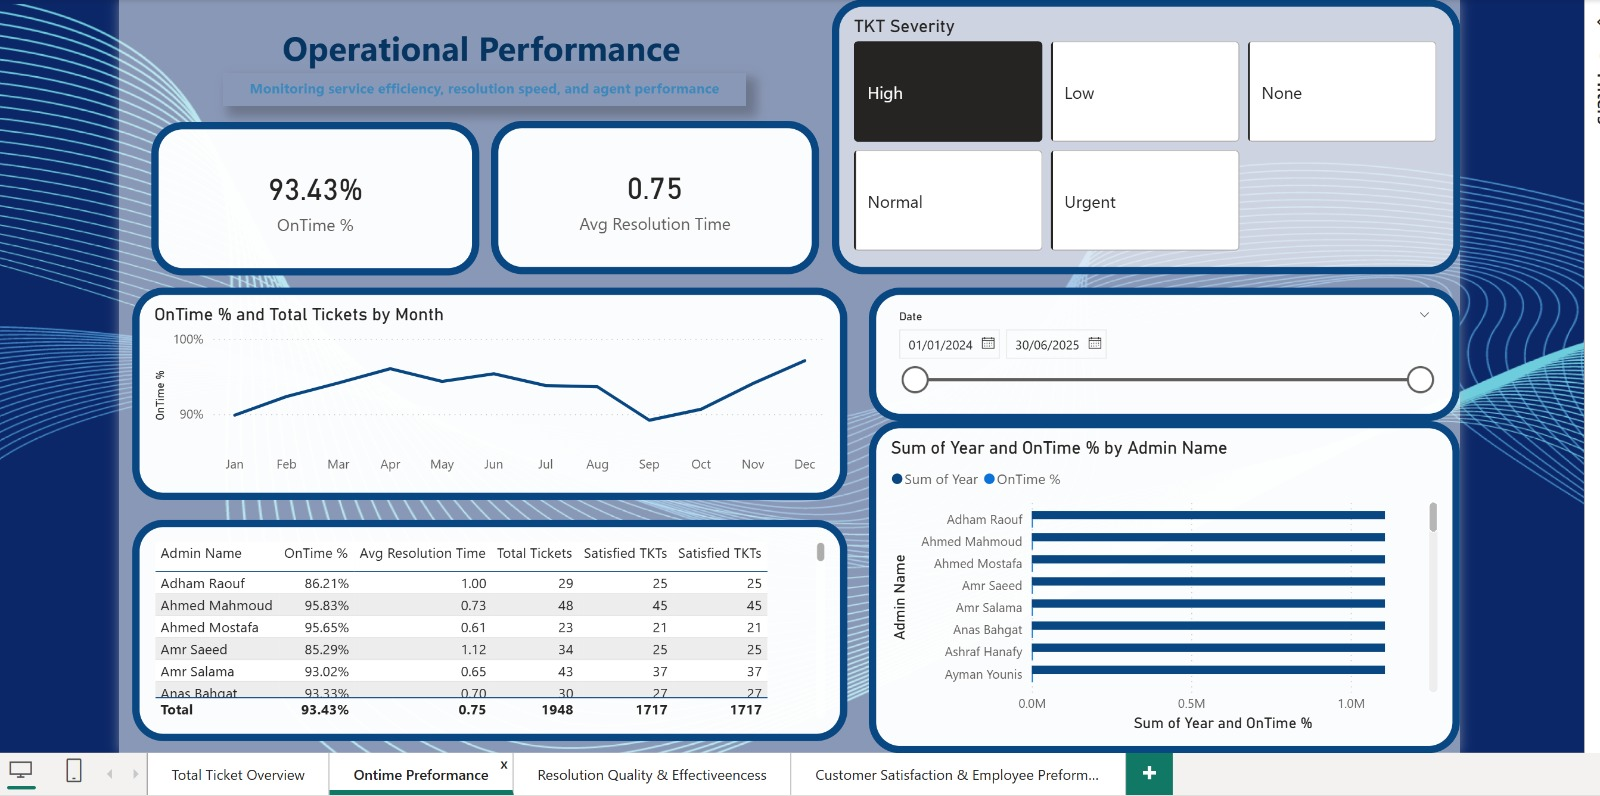

The page's visual inventory and layout, read from the dashboard file:
{"tool":"powerbi","page":{"name":"Ontime Preformance ","canvas":[1280,720],"ordinal":1},"visuals":[{"type":"card","fields":{"Values":["Tickets.OnTime %"]},"box":[30.4,117.4,313,146.4],"z":0},{"type":"lineChart","fields":{"Category":["Date Table.Month"],"Y":["Tickets.OnTime %"]},"box":[13,275.4,682.6,202.9],"z":1000},{"type":"tableEx","fields":{"Values":["Tickets.Admin Name","Tickets.OnTime %","Date Table.Avg Resolution Time","Date Table.Total Tickets","Tickets.Satisfied TKTs","Tickets.Satisfied TKTs"]},"box":[13,497.1,682.6,211.6],"z":2000},{"type":"advancedSlicerVisual","fields":{"Values":["Tickets.TKT Severity"]},"box":[679.7,0,600,262.3],"z":3000},{"type":"clusteredBarChart","fields":{"Category":["Tickets.Admin Name"],"Y":["Sum(Date Table.Year)","Tickets.OnTime %"]},"box":[715.9,402.9,563.8,317.4],"z":4000},{"type":"card","fields":{"Values":["Date Table.Avg Resolution Time"]},"box":[355.1,115.9,313,146.4],"z":5000},{"type":"slicer","fields":{"Values":["Date Table.Date"]},"box":[715.9,275.4,563.8,127.5],"z":6000},{"type":"textbox","box":[68.7,19.8,554.8,70],"z":7000},{"type":"textbox","box":[99.1,70,499.3,31.7],"z":8000}]}

Visuals, with their boxes on the page's 1280x720 design canvas (x1, y1, x2, y2). These are canvas units, not pixel positions in the 1600x796 screenshot, which may show the page scaled, cropped or inside an application window:
card - Tickets.OnTime %: [left=30, top=117, right=343, bottom=264]
lineChart - Date Table.Month x Tickets.OnTime %: [left=13, top=275, right=696, bottom=478]
tableEx - Tickets.Admin Name x Tickets.OnTime %: [left=13, top=497, right=696, bottom=709]
advancedSlicerVisual - Tickets.TKT Severity: [left=680, top=0, right=1280, bottom=262]
clusteredBarChart - Tickets.Admin Name x Sum(Date Table.Year): [left=716, top=403, right=1280, bottom=720]
card - Date Table.Avg Resolution Time: [left=355, top=116, right=668, bottom=262]
slicer - Date Table.Date: [left=716, top=275, right=1280, bottom=403]
textbox: [left=69, top=20, right=624, bottom=90]
textbox: [left=99, top=70, right=598, bottom=102]
